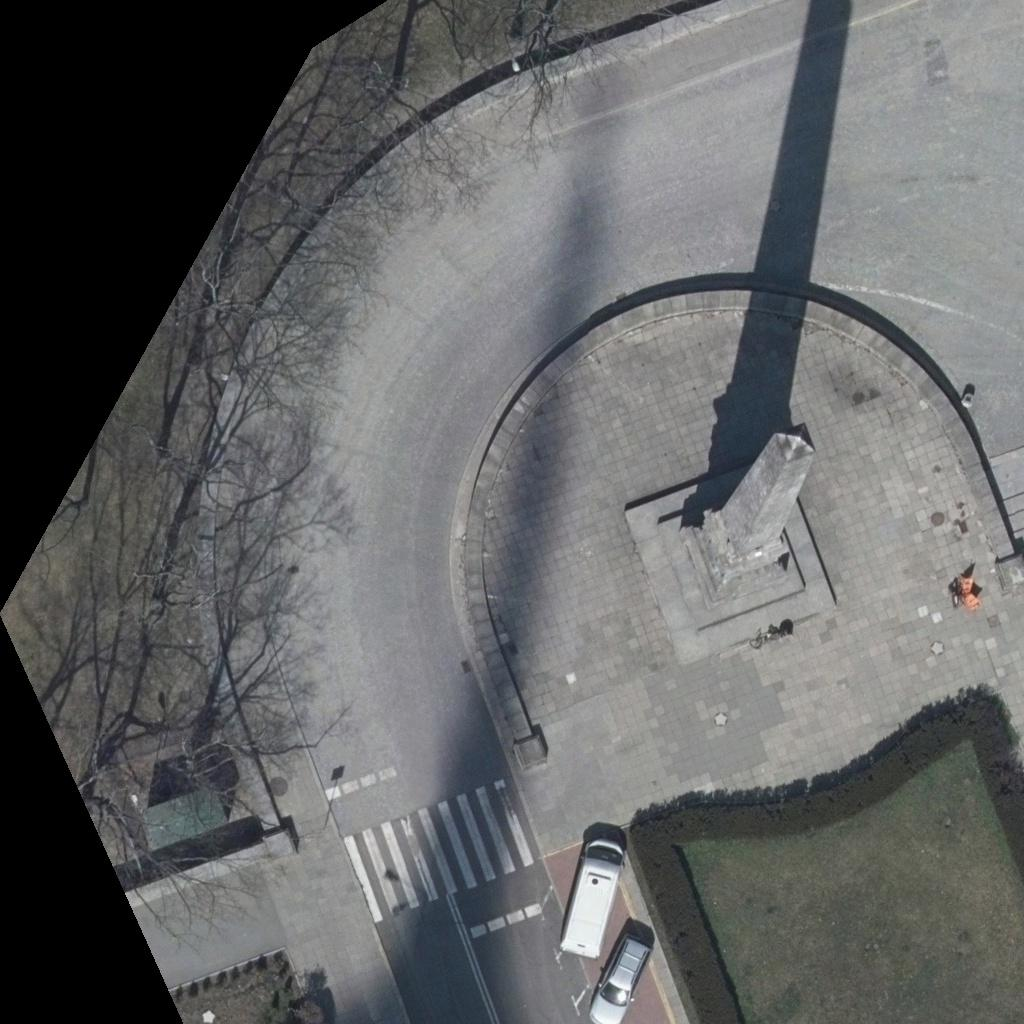samochod_osobowy: (559, 836, 624, 956), (592, 935, 652, 1023)
